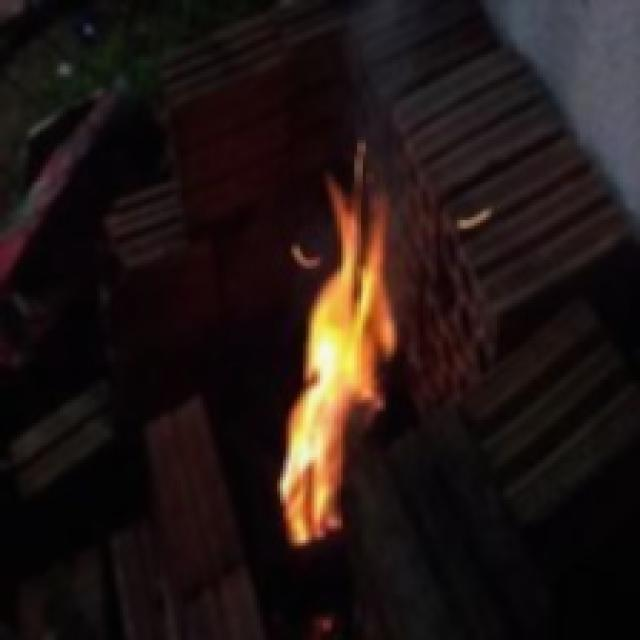fire: (274, 164, 409, 576)
